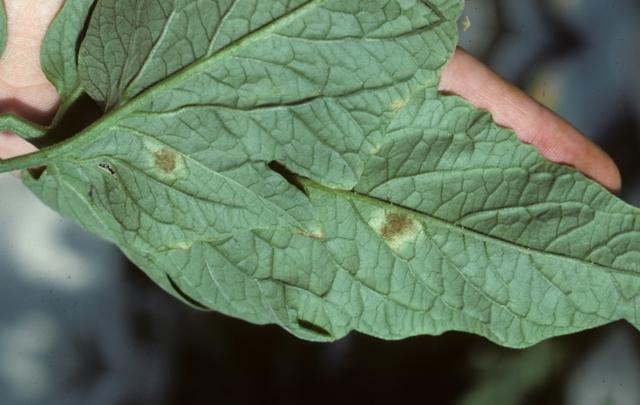Tomato mold leaf: (31, 16, 640, 397), (3, 0, 491, 305)
